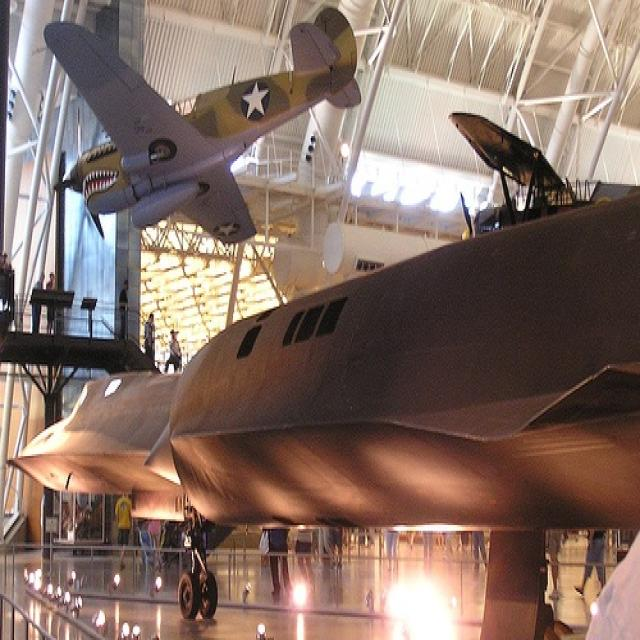aeroplane: (11, 180, 638, 638), (41, 0, 361, 284), (444, 102, 639, 247)
